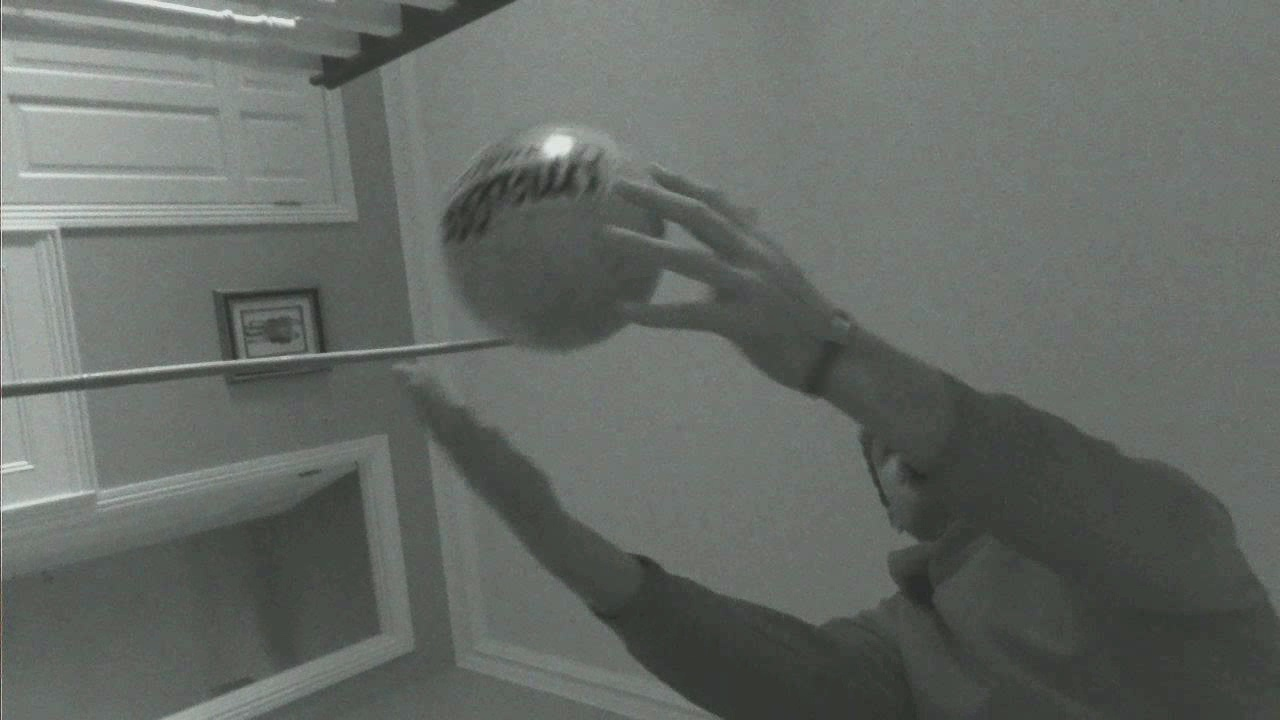Football-Spotter: (440, 126, 663, 350)
